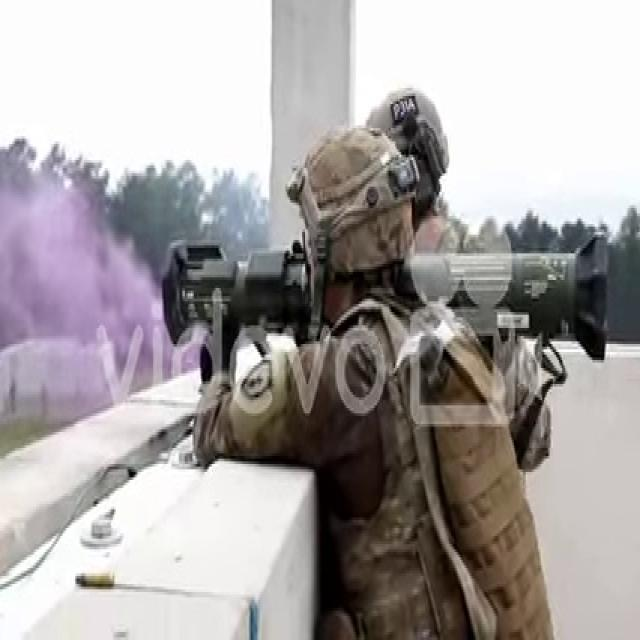bazooka: (161, 225, 615, 370)
